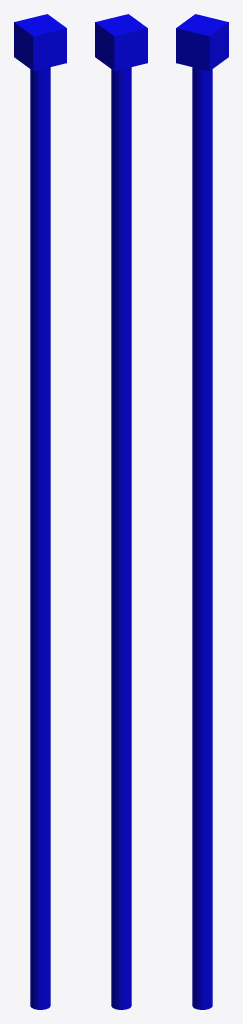
File: Scale_Z.glb
3 views of the same model, side by side, from view 1: azimuth 30°, elevation 25°; view 2: azimuth 210°, elevation 25°; view 3: azimuth 330°, elevation 25° (orthographic).
Visible parts, largest first — view 1: Scale_Z; view 2: Scale_Z; view 3: Scale_Z.
Boxes of the visible parts, <box> form: Scale_Z: <box>14,14,66,1009</box>; Scale_Z: <box>95,14,147,1009</box>; Scale_Z: <box>176,14,228,1009</box>.
Size of the model in its own units: 0.008 by 0.224 by 0.008.
